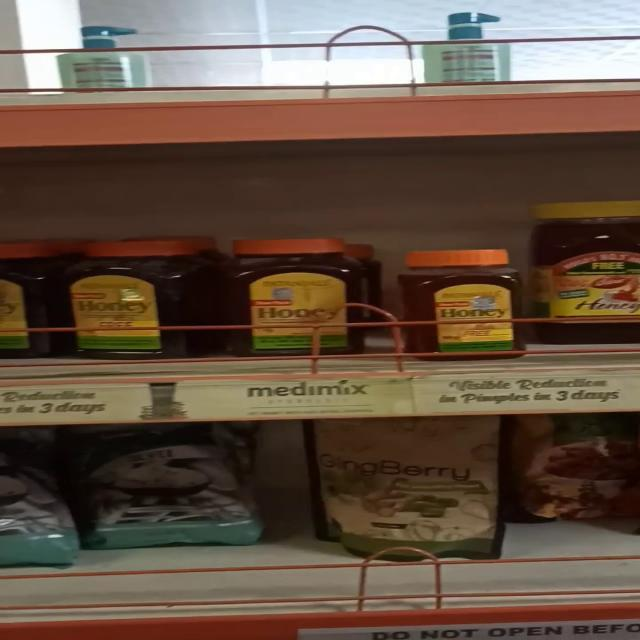Dabur Honey: (533, 195, 640, 348)
Patanjali Honey: (60, 238, 214, 360), (231, 242, 368, 358), (394, 246, 530, 362)
